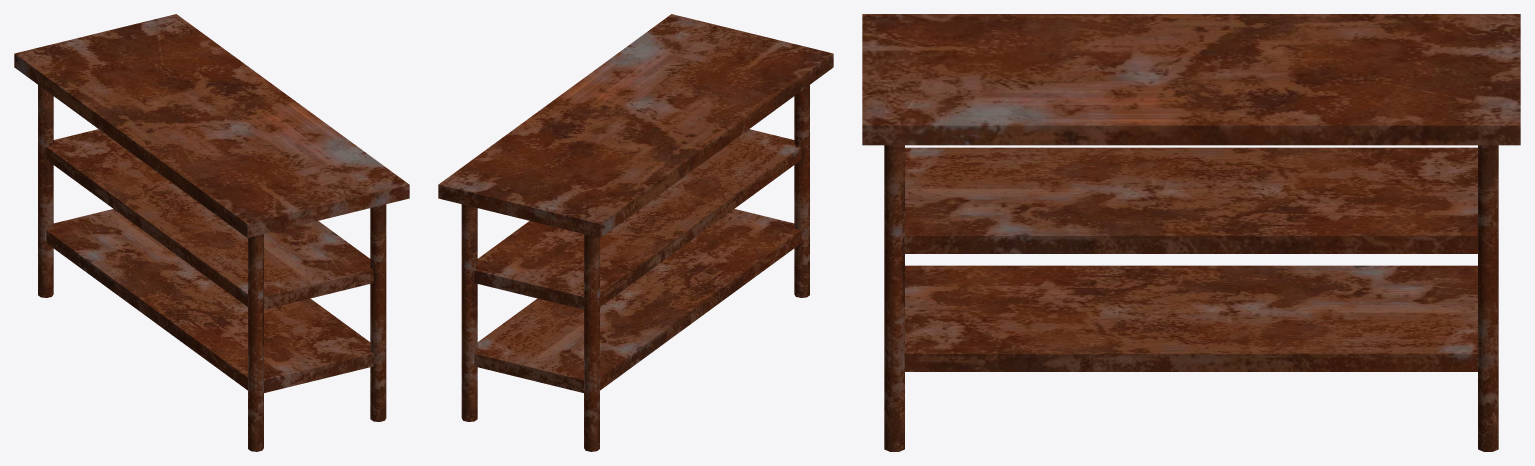
Rendered from steel-table.lod0.glb.
The picture shows the model from 3 angles, left to right: view 1: azimuth 30°, elevation 25°; view 2: azimuth 150°, elevation 25°; view 3: azimuth 270°, elevation 25°; orthographic projection. The views are drawn at different scales.
Visible parts, largest first — view 1: defaultMaterial; view 2: defaultMaterial; view 3: defaultMaterial.
Part boxes in pixels (x1=…): defaultMaterial: x1=14, y1=14, x2=409, y2=451; defaultMaterial: x1=438, y1=14, x2=833, y2=451; defaultMaterial: x1=862, y1=14, x2=1520, y2=451.
Bounding box in the file's own units: 0.6406 × 0.9 × 1.6.
1 material, 1 textured.
